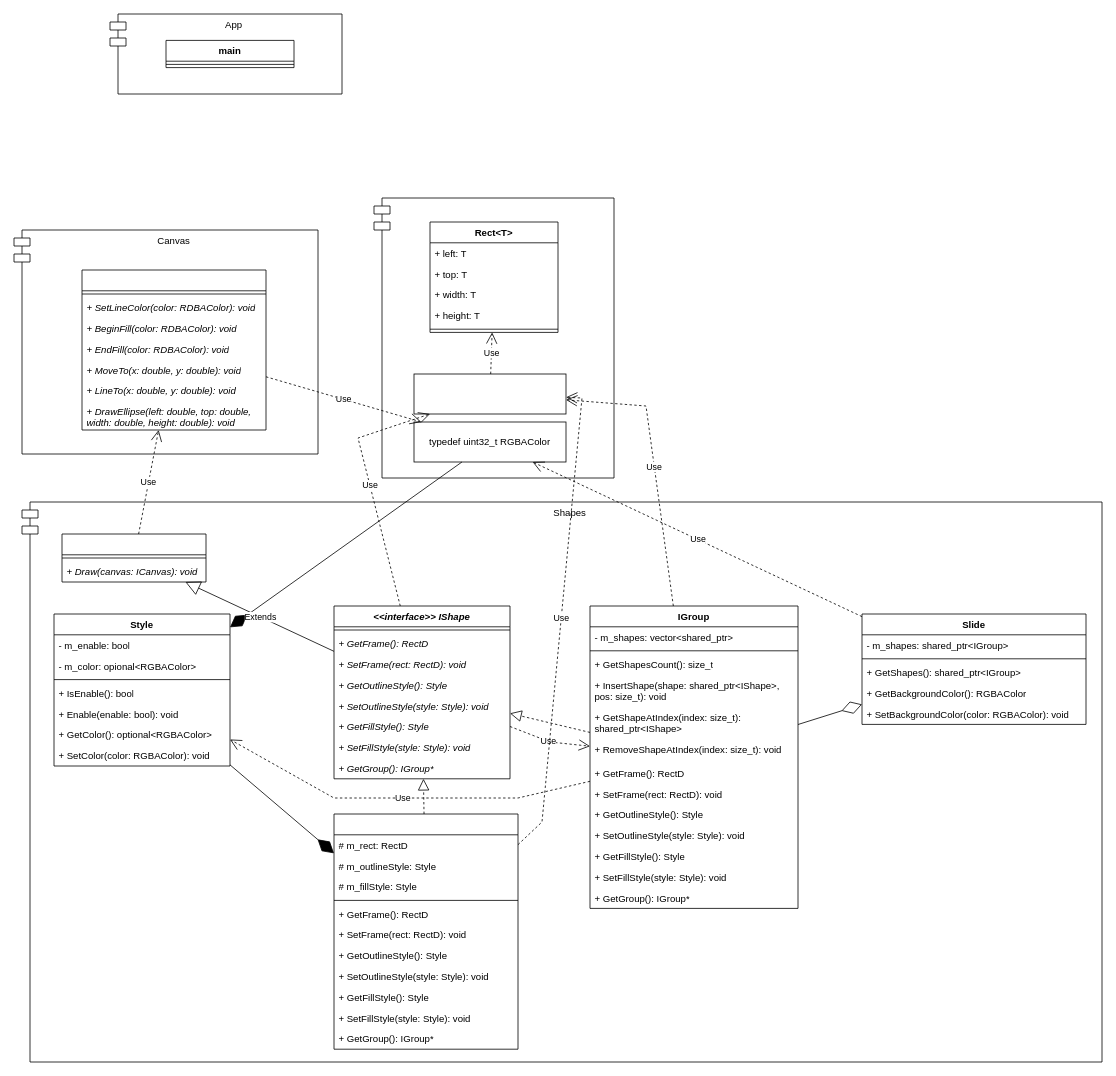
The diagram is 1116 pixels wide and 1076 high, and some of its shapes have lost their labels. Here are the shapes that lost their labels. From the top down, the box of each, then its label:
(81, 269, 266, 430): <<interface>> ICanvas
(373, 197, 614, 478): CommonTypes
(413, 373, 566, 414): typedef Rect<double> RectD
(61, 533, 206, 582): <<interface>> IDrawable
(333, 813, 518, 1049): Shape
